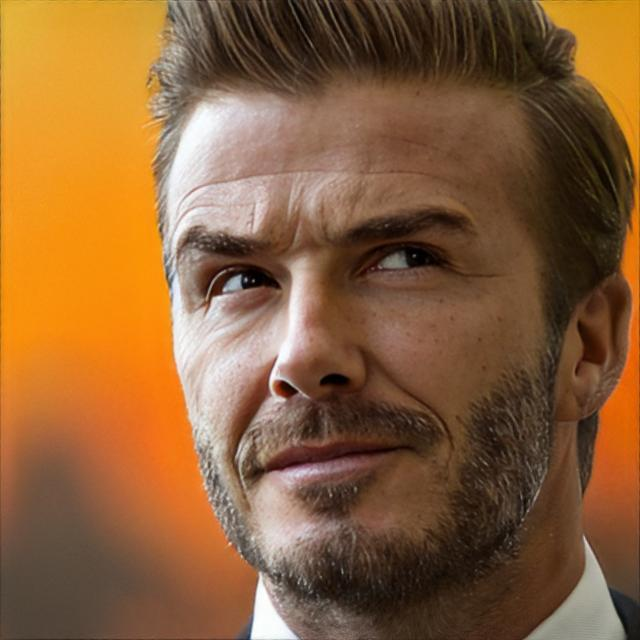content: (163, 74, 554, 606)
